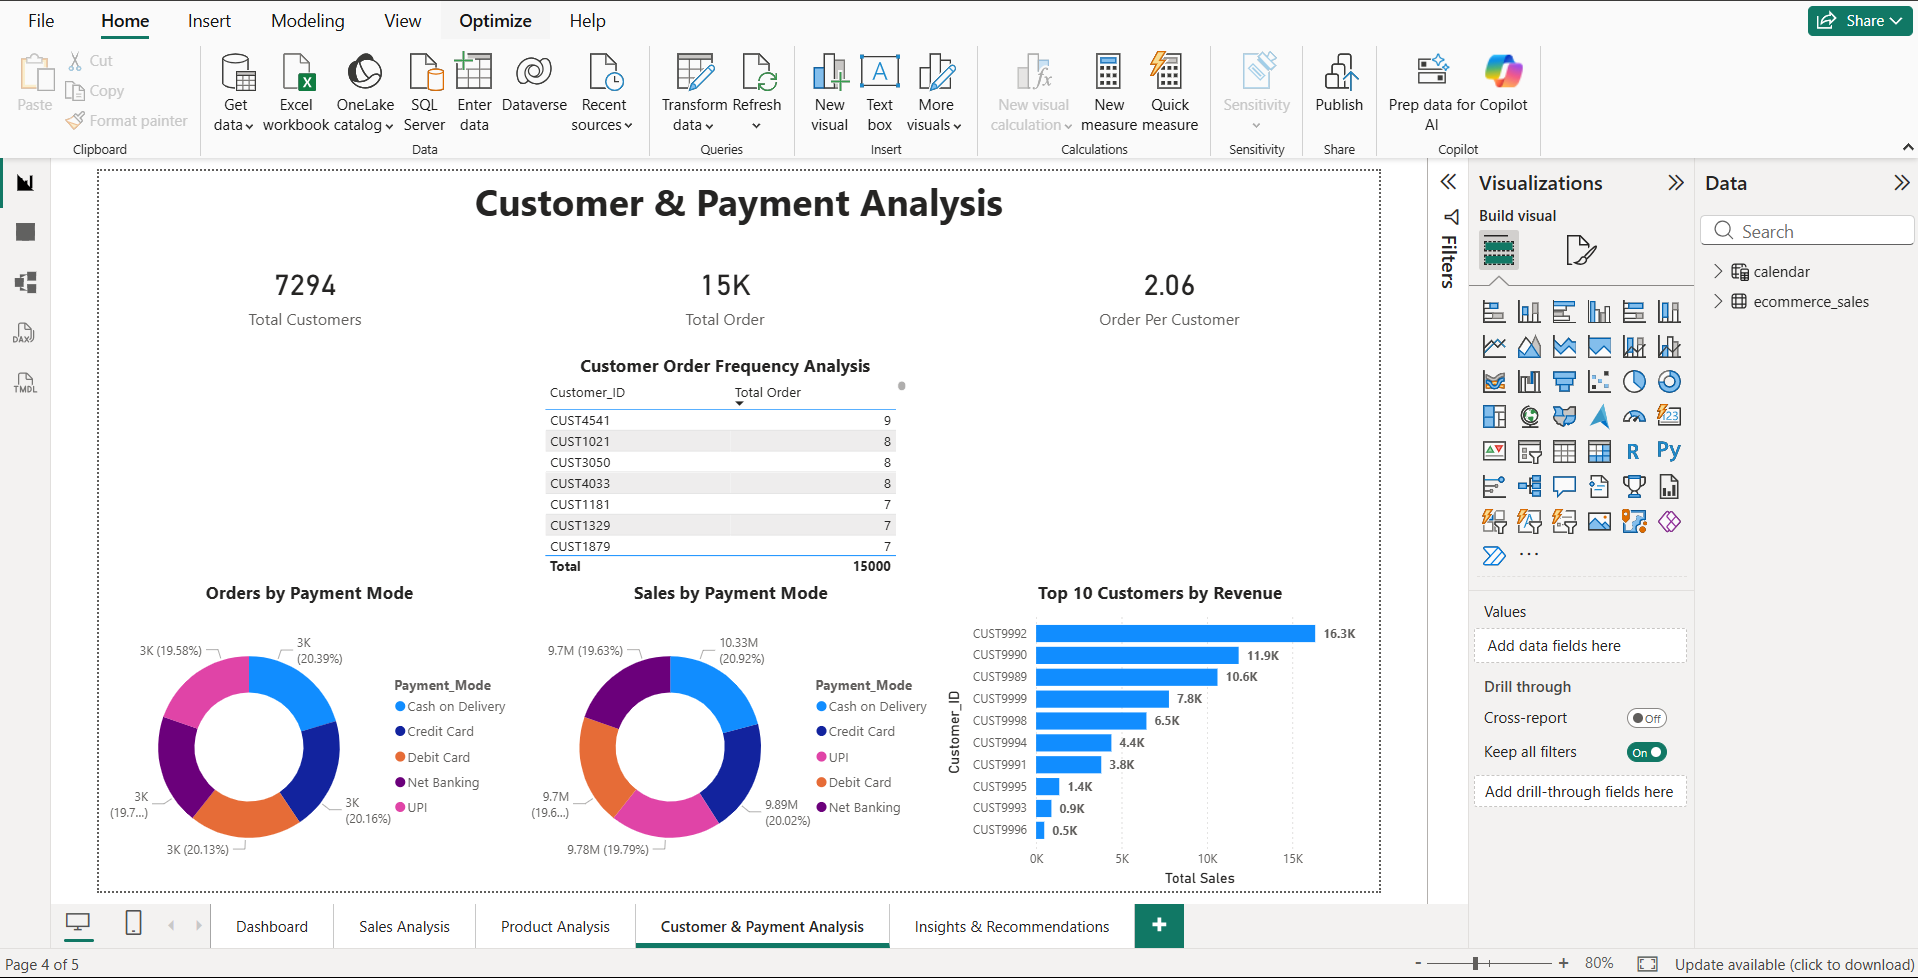

Layout of this report page (visuals, bound fields, positions):
{"tool":"powerbi","page":{"name":"Customer & Payment Analysis","canvas":[1280,720],"ordinal":3},"visuals":[{"type":"textbox","box":[0,0,1280,67.5],"z":0},{"type":"donutChart","title":"Orders by Payment Mode","fields":{"Category":["ecommerce_sales.Payment_Mode"],"Y":["ecommerce_sales.Total Order"]},"box":[0,410,421.2,310],"z":1000},{"type":"donutChart","title":"Sales by Payment Mode","fields":{"Category":["ecommerce_sales.Payment_Mode"],"Y":["ecommerce_sales.Total Sales"]},"box":[421.2,410,421.2,310],"z":2000},{"type":"barChart","title":"Top 10 Customers by Revenue","fields":{"Y":["ecommerce_sales.Total Sales"],"Category":["ecommerce_sales.Customer_ID"]},"box":[842.5,410,437.5,310],"z":3000},{"type":"tableEx","title":"Customer Order Frequency Analysis","fields":{"Values":["ecommerce_sales.Customer_ID","ecommerce_sales.Total Order"]},"box":[440,182.5,372.5,227.5],"z":4000},{"type":"card","fields":{"Values":["ecommerce_sales.Total Customers"]},"box":[0,67.5,412.5,111.2],"z":5000},{"type":"card","fields":{"Values":["ecommerce_sales.Order Per Customer"]},"box":[861.2,67.5,418.8,111.2],"z":6000},{"type":"card","fields":{"Values":["ecommerce_sales.Total Order"]},"box":[420,67.5,412.5,111.2],"z":7000}]}

Visuals, with their boxes on the page's 1280x720 design canvas (x1, y1, x2, y2). These are canvas units, not pixel positions in the 1918x978 screenshot, which may show the page scaled, cropped or inside an application window:
textbox: 0/0/1280/68
"Orders by Payment Mode" donutChart: 0/410/421/720
"Sales by Payment Mode" donutChart: 421/410/842/720
"Top 10 Customers by Revenue" barChart: 842/410/1280/720
"Customer Order Frequency Analysis" tableEx: 440/182/812/410
card - ecommerce_sales.Total Customers: 0/68/412/179
card - ecommerce_sales.Order Per Customer: 861/68/1280/179
card - ecommerce_sales.Total Order: 420/68/832/179
